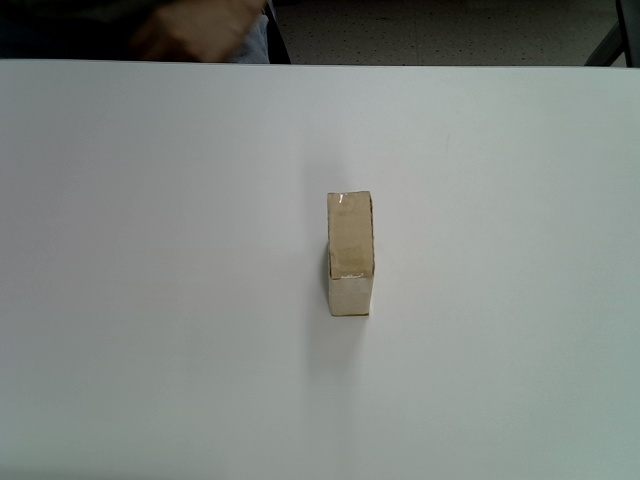normal: (327, 190, 375, 316)
